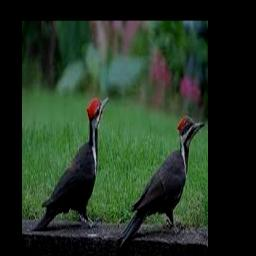Woodpecker: (118, 114, 205, 246), (33, 96, 110, 230)
